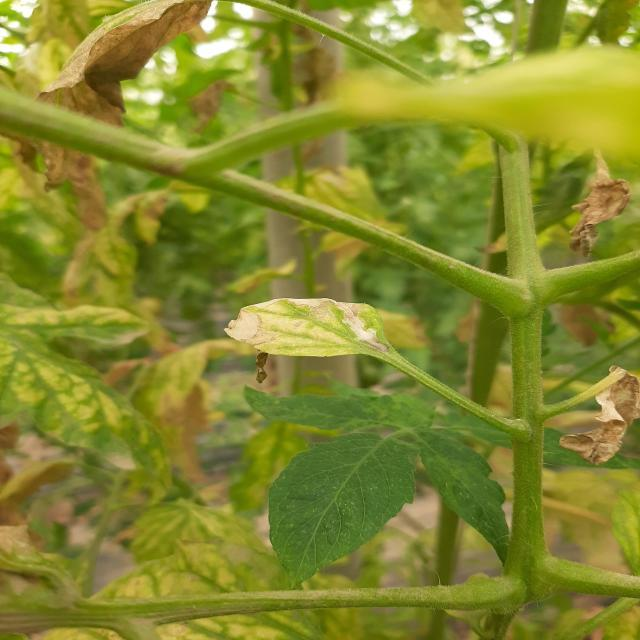Tuta absoluta: (327, 282, 395, 362), (223, 305, 267, 347)
